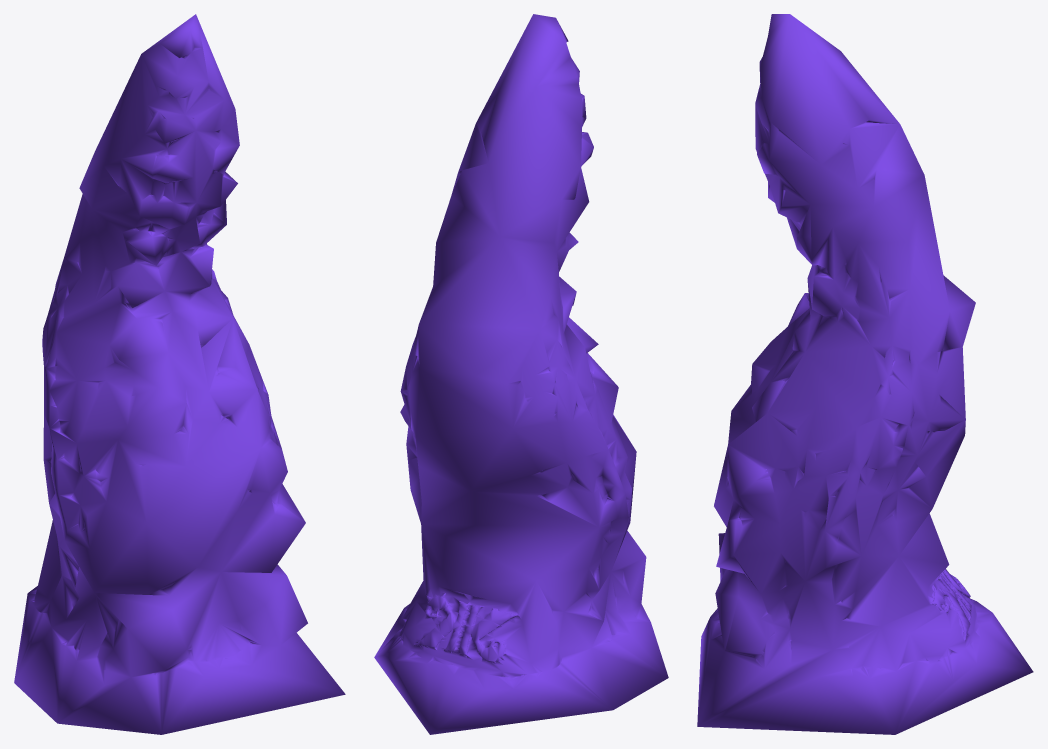
The model's file is large-flat-ar.glb.
3 renders of one model, left to right at view 1: azimuth 30°, elevation 25°; view 2: azimuth 150°, elevation 25°; view 3: azimuth 270°, elevation 25°, orthographic. The views are drawn at different scales.
Size of the model in its own units: 0.1119 by 0.28 by 0.1283.
